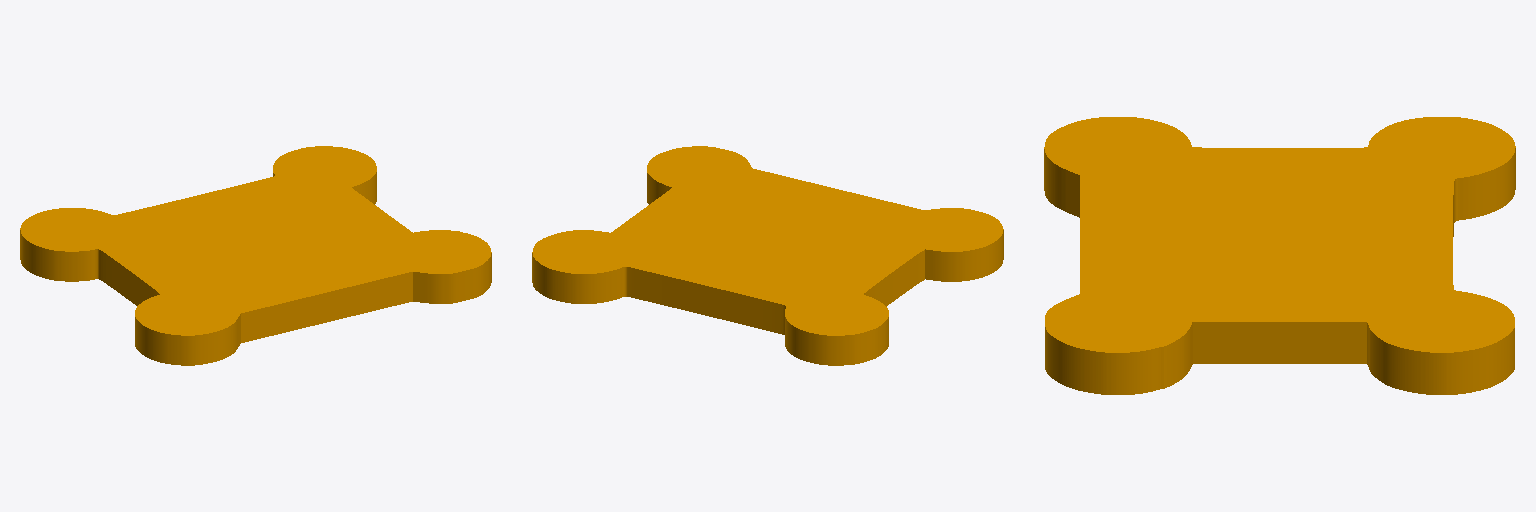
robot.urdf — i7.urdf:
<?xml version="1.0" encoding="utf-8"?>
<robot name="i7.urdf">
  <link name="baseLink">
    <contact>
      <lateral_friction value="0.5"/>
      <rolling_friction value="0.001"/>
      <spinning_friction value="0.001"/>
    </contact>
    <inertial>
      <origin rpy="0 0 0" xyz="0 0 0"/>
      <mass value="0.07"/>
      <inertia ixx="1" ixy="0" ixz="0" iyy="1" iyz="0" izz="1"/>
    </inertial>
    <visual>
      <origin rpy="0 0 0" xyz="0 0 0"/>
      <geometry>
        <mesh filename="i7.obj" scale="0.2 0.2 0.1"/> <!-- Scale x and y by 3.5, z by 1.0 -->
      </geometry>
    </visual>
    <collision>
      <origin rpy="0 0 0" xyz="0 0 0"/>
      <geometry>
        <mesh filename="i7.obj" scale="0.2 0.2 0.1"/> <!-- Scale x and y by 3.5, z by 1.0 -->
      </geometry>
    </collision>
  </link>
</robot>

--- Render facts (derived) ---
3 views of the same robot in one strip: view 1: azimuth 30°, elevation 25°; view 2: azimuth 150°, elevation 25°; view 3: azimuth 270°, elevation 25° (orthographic).
Model i7.urdf with 1 links and 0 joints (none), rooted at baseLink, posed every joint at zero.
Visible links, largest first — view 1: baseLink; view 2: baseLink; view 3: baseLink.
Link boxes in pixels (x1,y1,x2,y2): baseLink: [20, 146, 491, 365]; baseLink: [532, 146, 1003, 365]; baseLink: [1044, 117, 1515, 394].
Size in the robot's own frame: 0.4711 by 0.3964 by 0.0394 metres.
1 mesh visuals loaded from 1 distinct referenced files (1 OBJ).